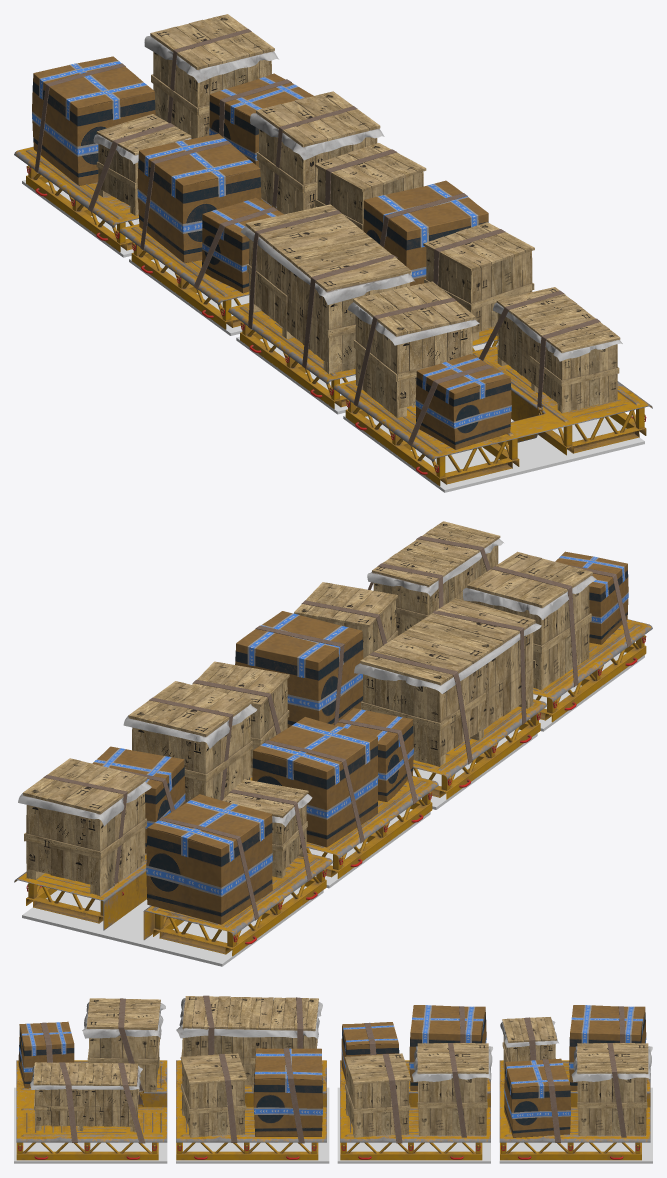
Rendered from Chair_Cargo.gltf.
3 views of the same model, one above another, from view 1: azimuth 30°, elevation 25°; view 2: azimuth 150°, elevation 25°; view 3: azimuth 270°, elevation 25° (orthographic). The views are drawn at different scales.
Visible parts, largest first — view 1: BOX_WOOD_03, plate, BOX_WOOD_01, BOX_WOOD_02, BOX_04, BOX_05, BOX_WOOD_08, BOX_WOOD_06, BOX_WOOD_04, BOX_01, CAR_Plane.220, BOX_02 (+17 smaller); view 2: BOX_WOOD_03, BOX_WOOD_08, BOX_05, plate.003, BOX_04, BOX_WOOD_06, BOX_02, BOX_WOOD_02, BOX_WOOD_01, CAR_Plane.220, plate.001, plate.002 (+17 smaller); view 3: CAR_Plane.220, BOX_WOOD_03, plate, BOX_WOOD_06, BOX_WOOD_08, BOX_WOOD_01, BOX_02, BOX_WOOD_02, BOX_WOOD_04, BOX_WOOD_05, BOX_06, plate.002 (+20 smaller).
Boxes of the visible parts, left/top/right/bottom form: BOX_WOOD_03: left=241, top=204, right=414, bottom=374; plate: left=333, top=345, right=652, bottom=486; BOX_WOOD_01: left=493, top=287, right=622, bottom=413; BOX_WOOD_02: left=347, top=281, right=479, bottom=418; BOX_04: left=137, top=133, right=261, bottom=262; BOX_05: left=32, top=56, right=155, bottom=185; BOX_WOOD_08: left=144, top=14, right=278, bottom=138; BOX_WOOD_06: left=250, top=91, right=384, bottom=214; BOX_WOOD_04: left=423, top=222, right=534, bottom=341; BOX_01: left=415, top=354, right=511, bottom=449; CAR_Plane.220: left=22, top=180, right=644, bottom=492; BOX_02: left=363, top=180, right=488, bottom=286; BOX_WOOD_03: left=354, top=598, right=541, bottom=766; BOX_WOOD_08: left=18, top=758, right=151, bottom=895; BOX_05: left=146, top=794, right=272, bottom=924; plate.003: left=14, top=853, right=333, bottom=956; BOX_04: left=252, top=717, right=377, bottom=847; BOX_WOOD_06: left=123, top=681, right=257, bottom=803; BOX_02: left=235, top=611, right=363, bottom=727; BOX_WOOD_02: left=462, top=551, right=596, bottom=690; BOX_WOOD_01: left=367, top=521, right=503, bottom=635; CAR_Plane.220: left=22, top=652, right=644, bottom=966; plate.001: left=360, top=699, right=547, bottom=799; plate.002: left=250, top=775, right=438, bottom=878; CAR_Plane.220: left=14, top=1087, right=652, bottom=1163; BOX_WOOD_03: left=176, top=996, right=322, bottom=1091; plate: left=16, top=1060, right=167, bottom=1160; BOX_WOOD_06: left=412, top=1043, right=492, bottom=1135; BOX_WOOD_08: left=571, top=1043, right=652, bottom=1135; BOX_WOOD_01: left=30, top=1062, right=142, bottom=1131; BOX_02: left=253, top=1048, right=322, bottom=1136; BOX_WOOD_02: left=82, top=998, right=165, bottom=1092; BOX_WOOD_04: left=180, top=1053, right=246, bottom=1137; BOX_WOOD_05: left=344, top=1053, right=410, bottom=1137; BOX_06: left=504, top=1058, right=570, bottom=1137; plate.002: left=340, top=1060, right=490, bottom=1160.
Bounding box in the file's own units: 1.24 × 0.6565 × 4.09.
